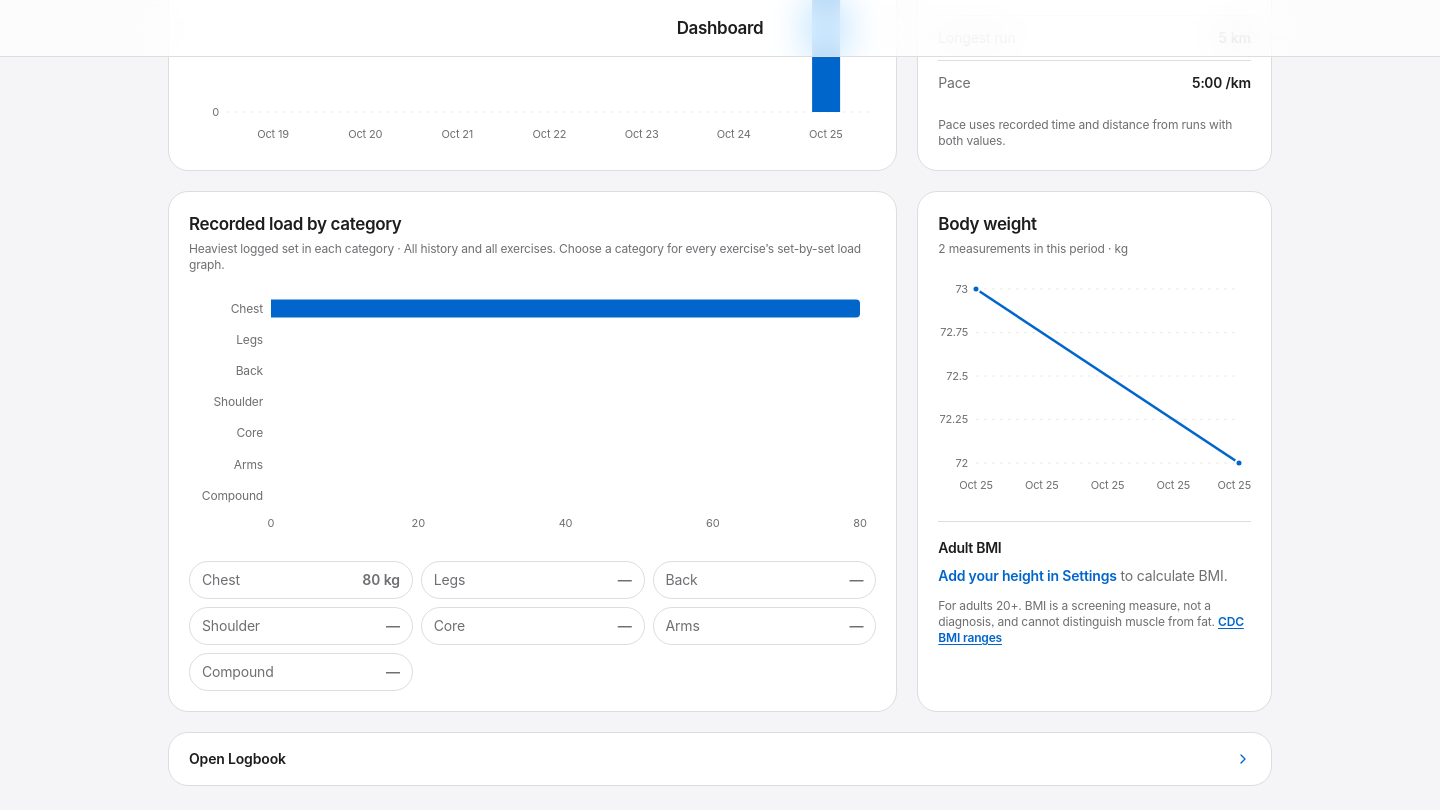
Test: shows old Bench Press and new Bench Press IDs in one complete recorded history
(page scrolled)
Step 1. Click the button "Chest 80 kg" → (301, 580), box [189,561,413,599]
(page scrolled)
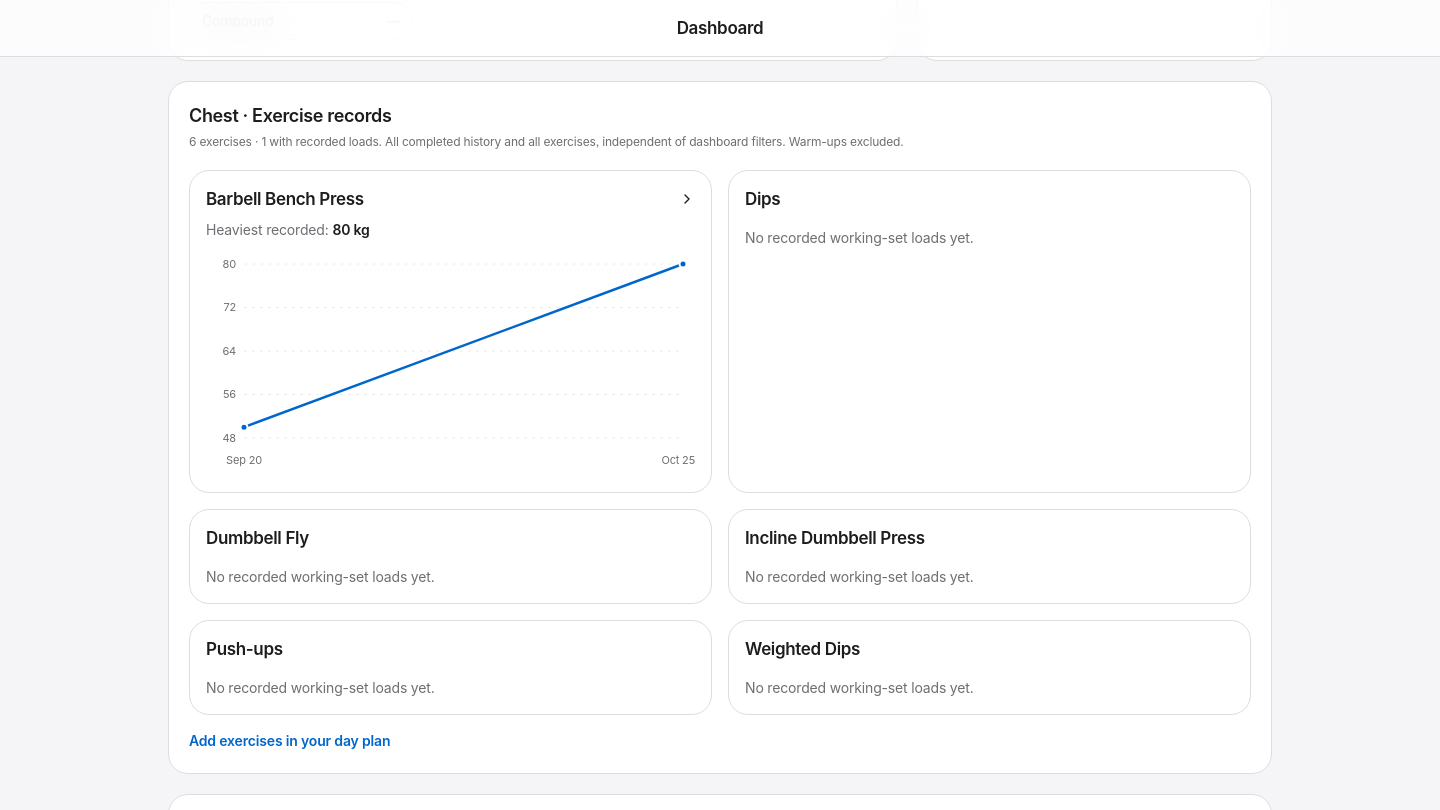
Expected: the number of links "Barbell Bench Press" is 1, [206,187,695,212]
